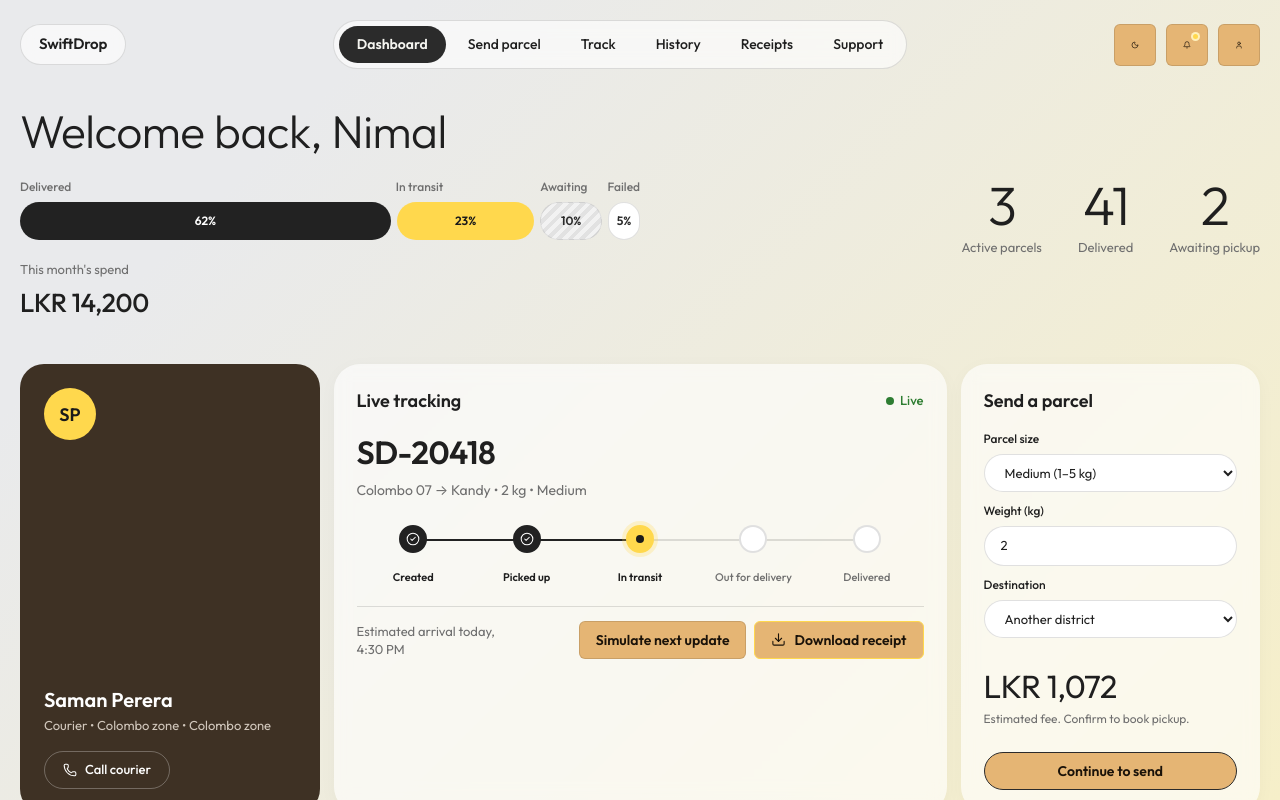
Test case: portal routing › renders the customer dashboard for an authenticated customer
Expected: the heading "Welcome back, Nimal" is shown, [20,102,447,160]
Step 1. Click the button named "User profile options" → click(1239, 44), box [1218,24,1260,66]
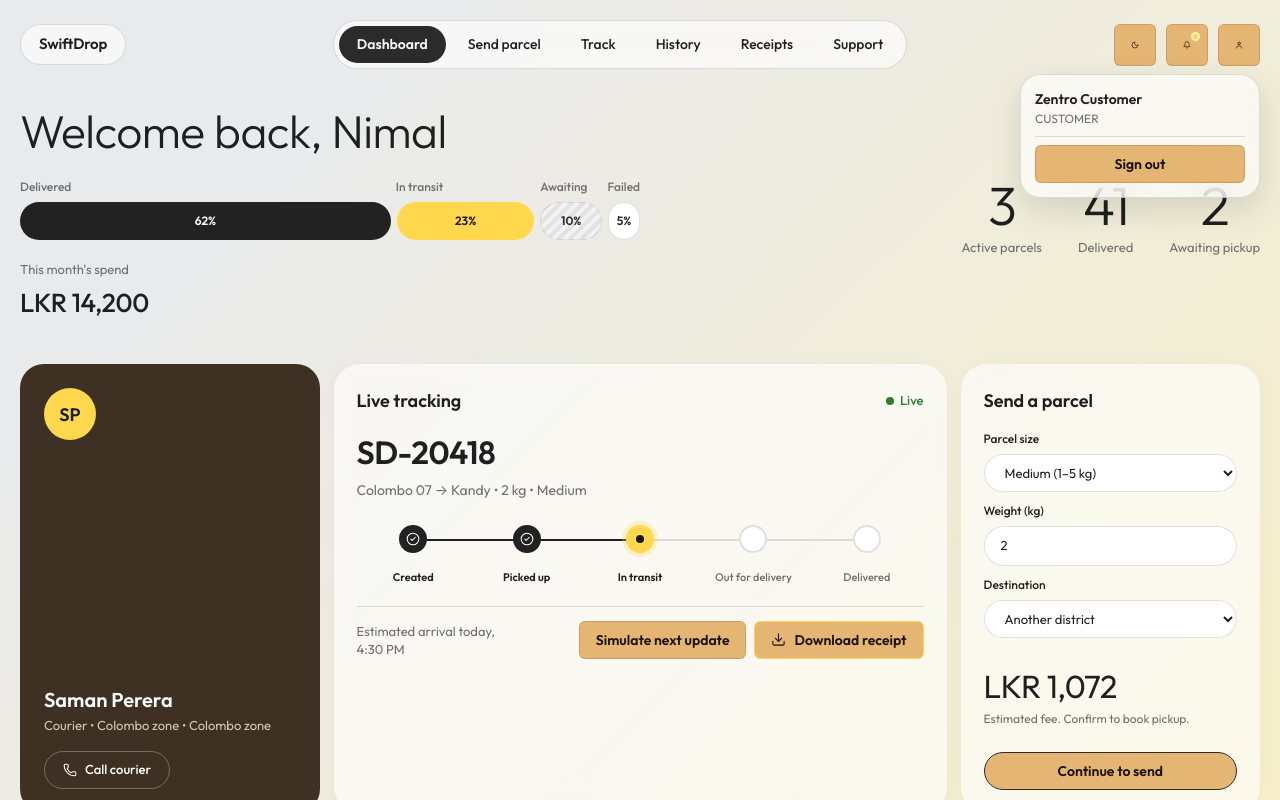
Expected: the menu item "Sign out" is shown, [1035,144,1245,182]
